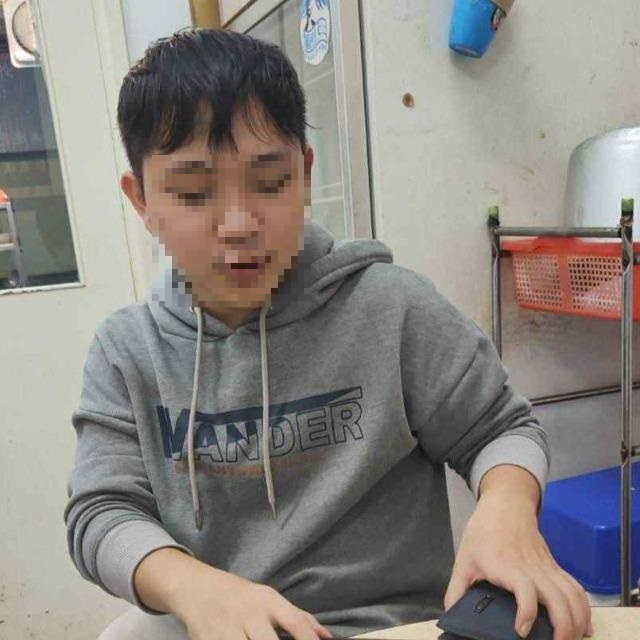NoHelmet: (116, 28, 320, 316)
